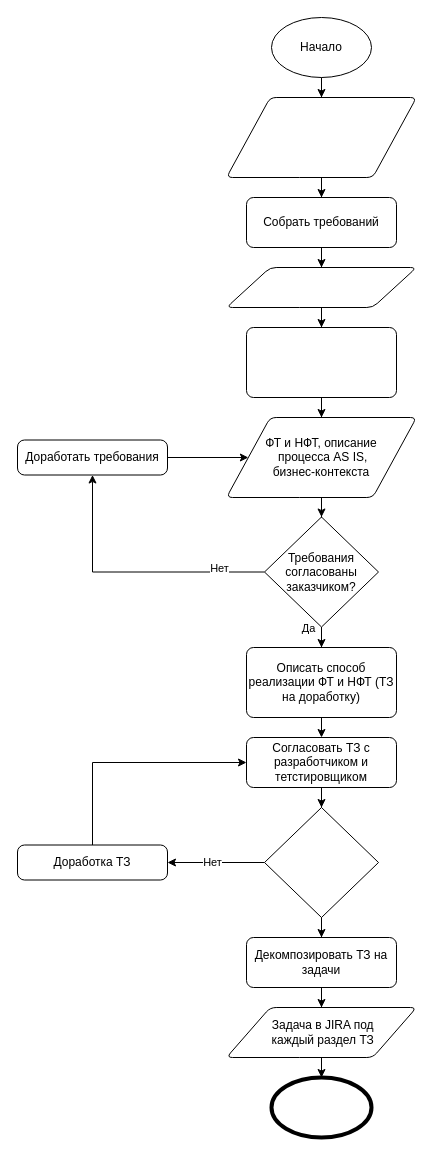
The diagram is 434 pixels wide and 1157 high, and some of its shapes have lost their labels. The centre of each missing label's shape, as x and y in pixels:
"Вводные данные от заказчика/РП о требуемой доработке" belongs at [321,137].
"Конец" belongs at [321,1107].
"Описать функциональны и нефункциональных требований" belongs at [321,362].
"Протокол встречи" belongs at [321,287].
"ТЗ согласовано разработчиком и QA?" belongs at [321,862].
